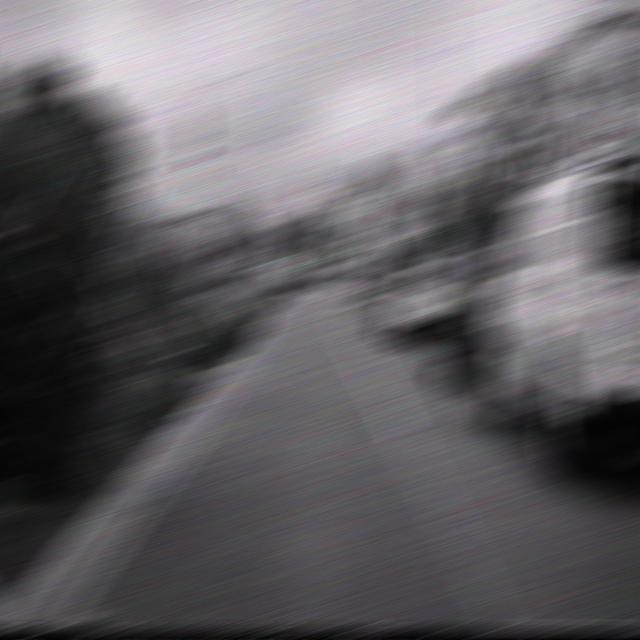pedestrianCrossing: (357, 234, 387, 259)
